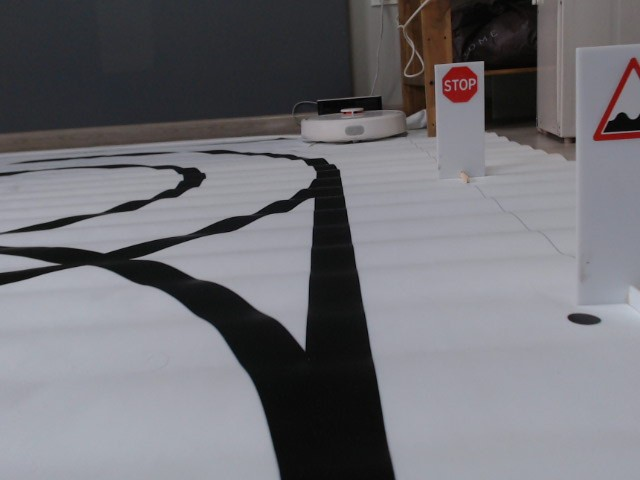Nerov: (593, 57, 640, 144)
